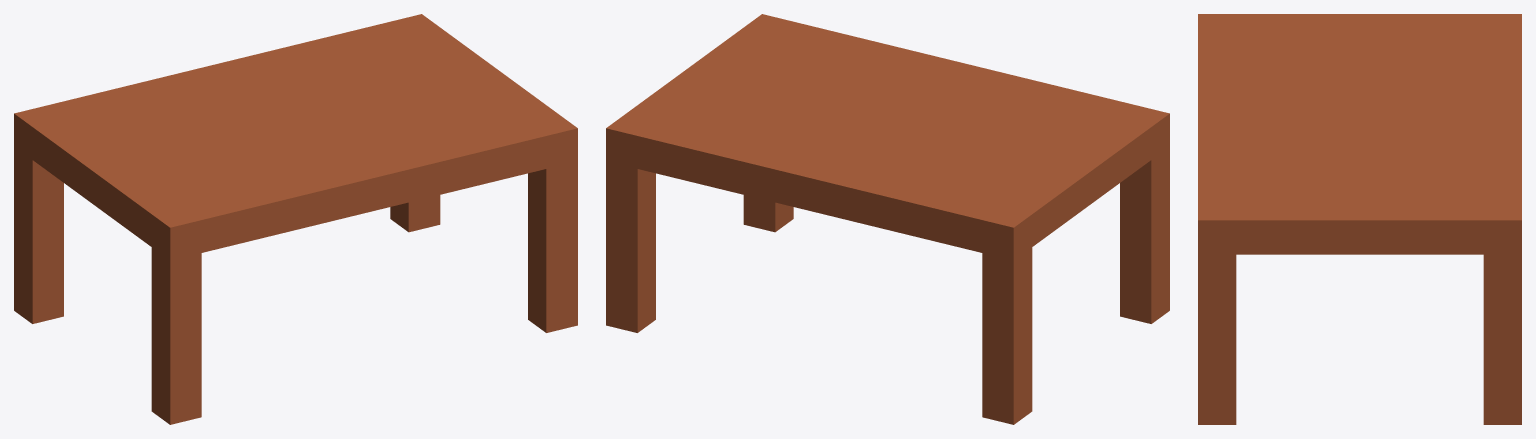
The model's file is table.fbx.
The picture shows the model from 3 angles, left to right: view 1: azimuth 30°, elevation 25°; view 2: azimuth 150°, elevation 25°; view 3: azimuth 270°, elevation 25°; orthographic projection. The views are drawn at different scales.
Parts seen in each view (by area): view 1: desk; view 2: desk; view 3: desk.
Boxes of the visible parts, x1,y1,x2,y2 form: desk: (14,14,577,424); desk: (606,14,1169,424); desk: (1198,14,1521,424).
Bounding box in the file's own units: 69.88 × 32.3 × 46.34.
